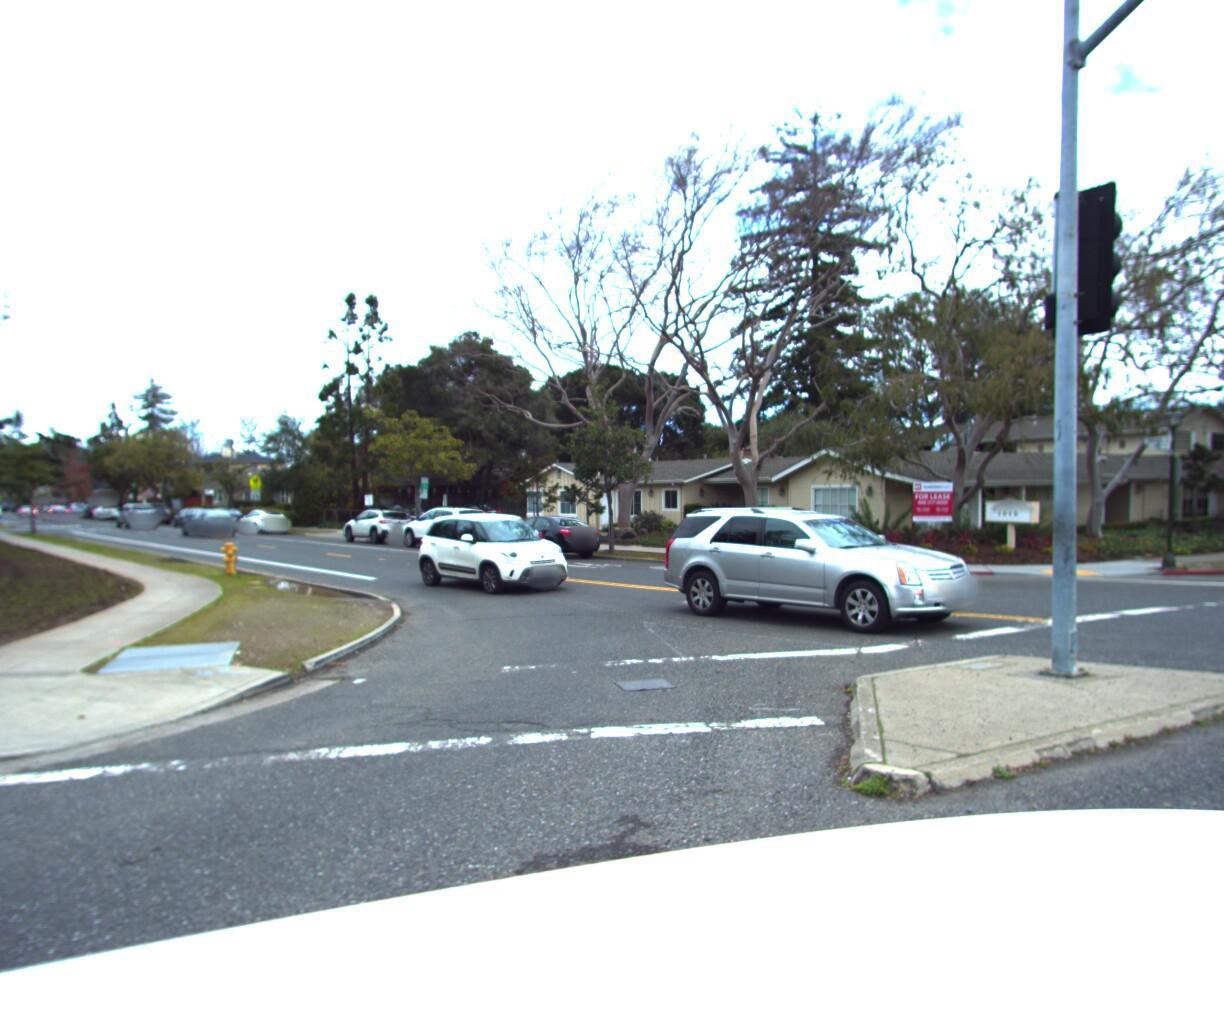car: (650, 500, 1018, 644), (410, 503, 590, 590), (489, 505, 616, 555), (397, 496, 510, 546), (340, 499, 423, 536), (177, 490, 241, 521), (373, 493, 431, 520), (238, 501, 297, 527), (135, 493, 174, 515)
